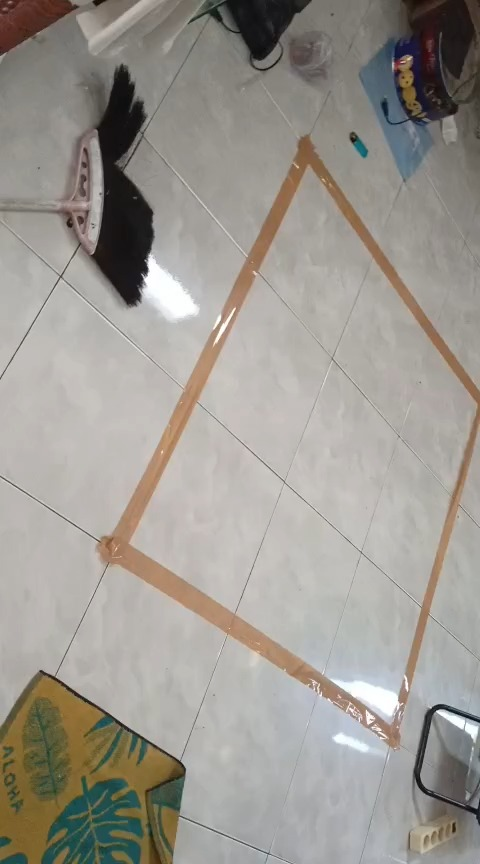floor marking: (99, 137, 479, 747)
